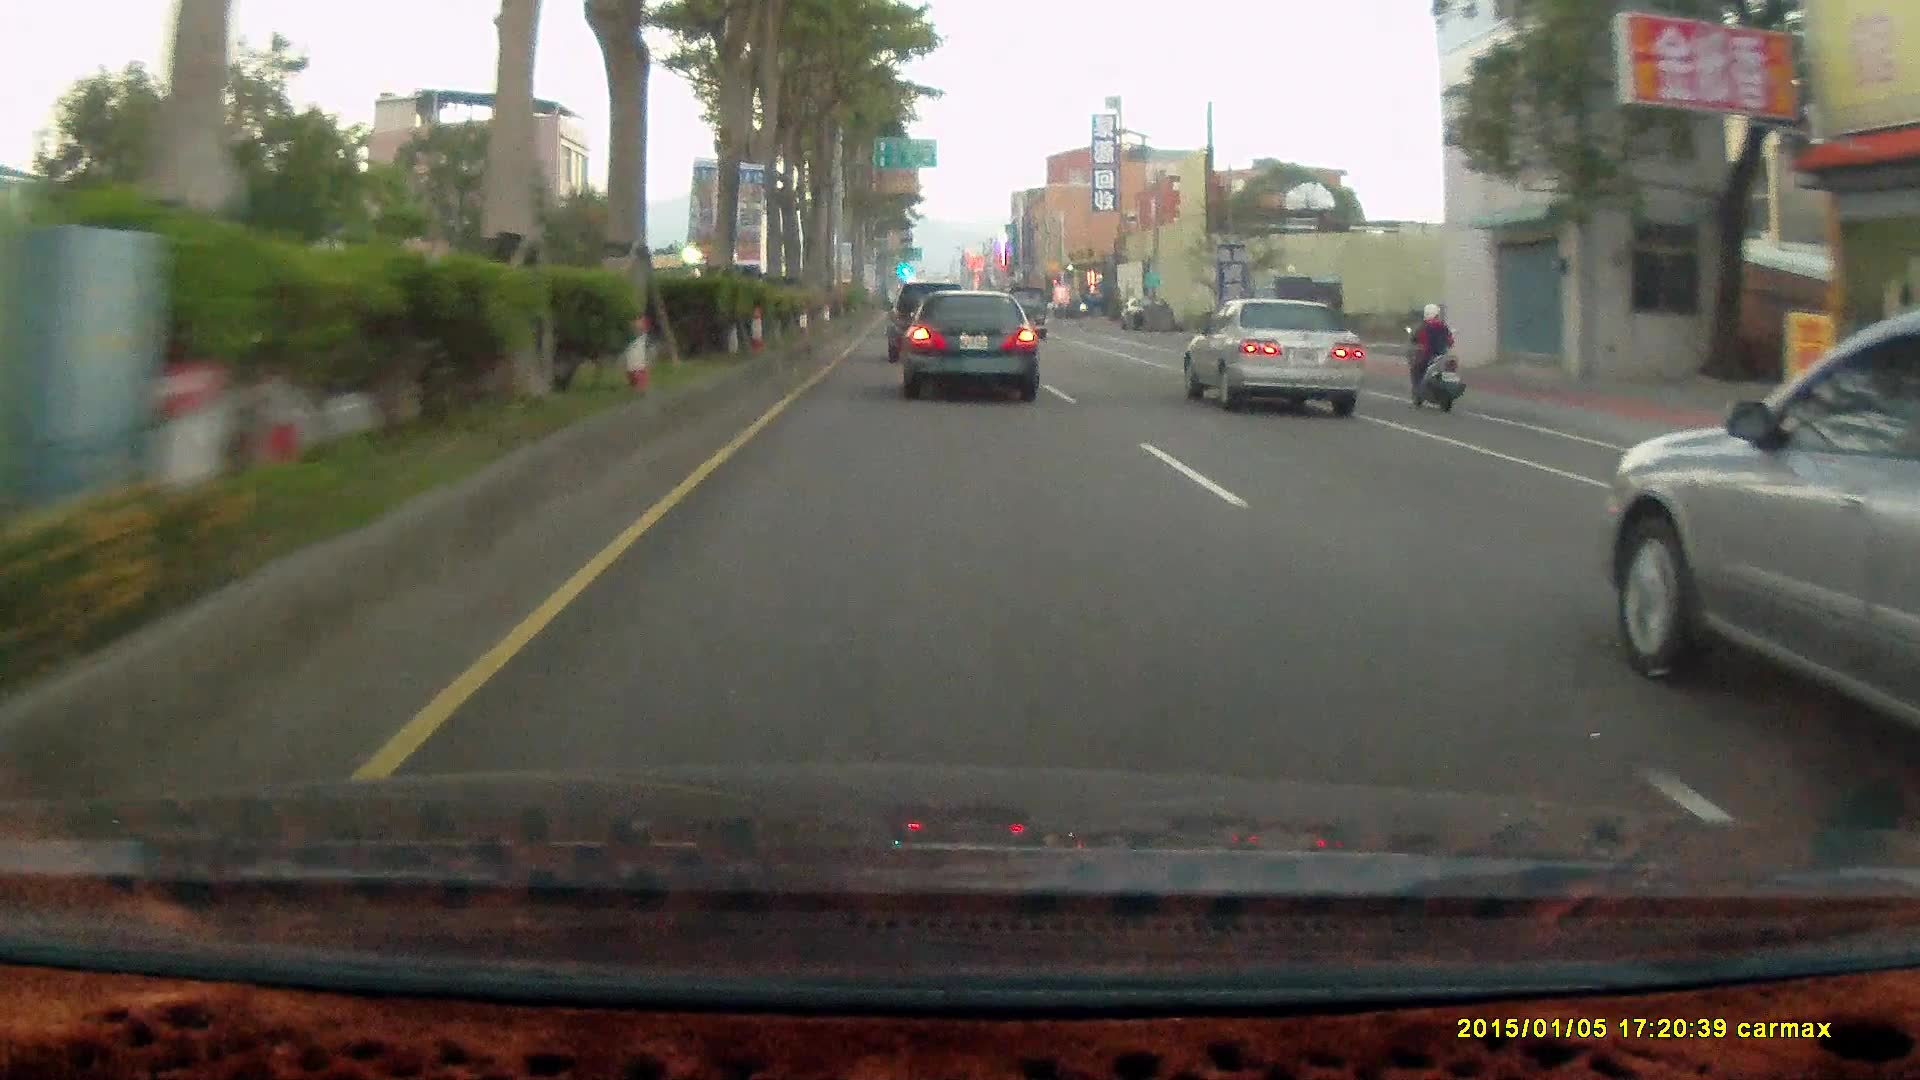rider: (1391, 292, 1474, 422), (1401, 298, 1466, 413)
vehicle: (1604, 329, 1920, 783), (1182, 298, 1363, 418), (1190, 302, 1369, 419), (900, 292, 1040, 404), (900, 290, 1038, 400), (1246, 280, 1343, 365), (887, 281, 969, 367), (887, 280, 968, 363), (1002, 283, 1049, 337)
